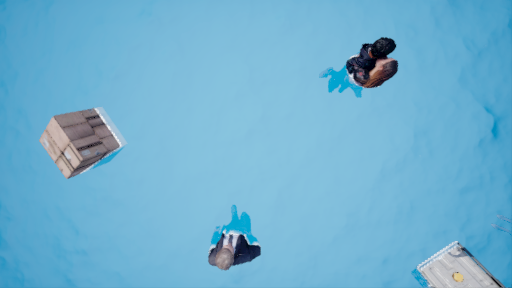person: (320, 30, 400, 104), (202, 198, 266, 273)
